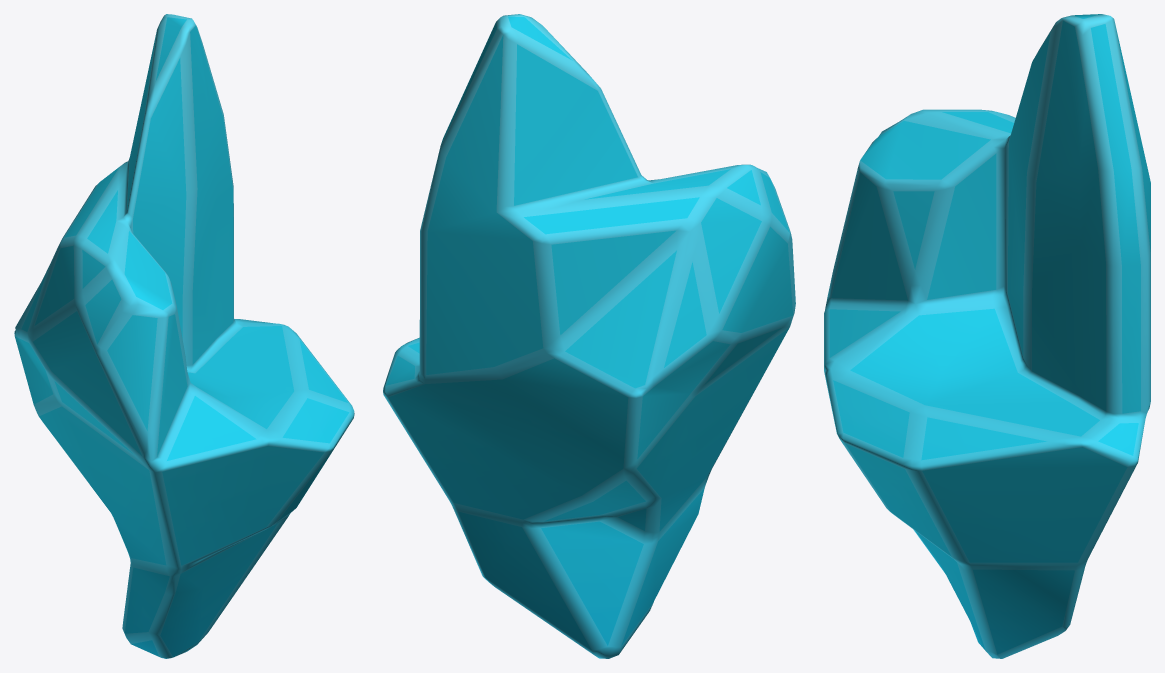
The model's file is ice_018.fbx.
3 renders of one model, left to right at view 1: azimuth 30°, elevation 25°; view 2: azimuth 150°, elevation 25°; view 3: azimuth 270°, elevation 25°, orthographic. The views are drawn at different scales.
Parts seen in each view (by area): view 1: ice_018; view 2: ice_018; view 3: ice_018.
Part boxes in pixels (x1=…): ice_018: x1=14, y1=14, x2=354, y2=658; ice_018: x1=383, y1=14, x2=795, y2=658; ice_018: x1=824, y1=14, x2=1150, y2=658.
Size of the model in its own units: 239 by 217 by 485.
